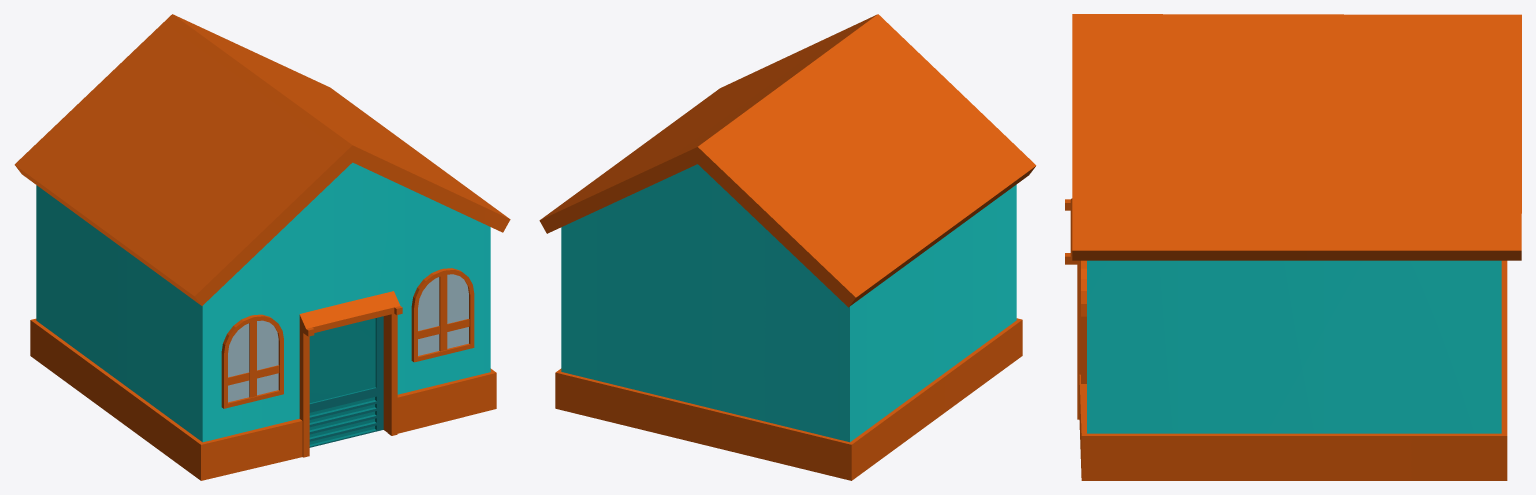
File: Env_ResidentBuilding_01.fbx
3 views of the same model, side by side, from view 1: azimuth 30°, elevation 25°; view 2: azimuth 150°, elevation 25°; view 3: azimuth 270°, elevation 25° (orthographic). The views are drawn at different scales.
Visible parts, largest first — view 1: Env_ResidentBuilding_01; view 2: Env_ResidentBuilding_01; view 3: Env_ResidentBuilding_01.
Boxes of the visible parts, <box> form: Env_ResidentBuilding_01: <box>14,14,510,480</box>; Env_ResidentBuilding_01: <box>539,14,1036,480</box>; Env_ResidentBuilding_01: <box>1065,14,1521,480</box>.
Bounding box in the file's own units: 570 × 522 × 573.
Materials: 1 (1 with a texture image).
